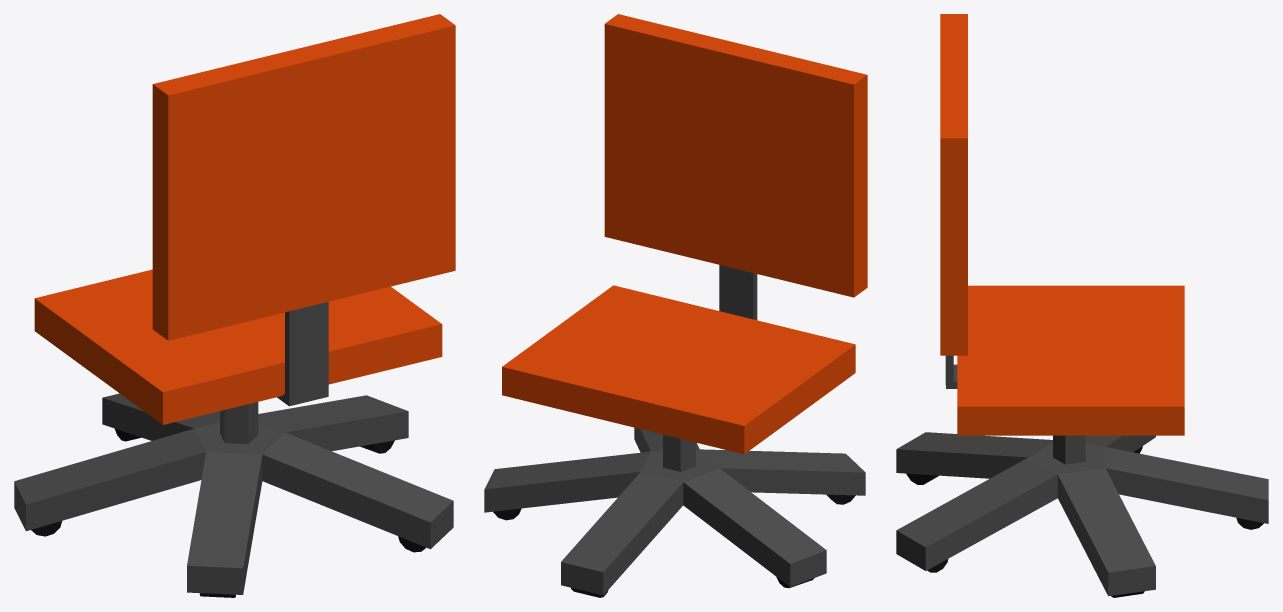
The model's file is office-chair.fbx.
The picture shows the model from 3 angles, left to right: view 1: azimuth 30°, elevation 25°; view 2: azimuth 150°, elevation 25°; view 3: azimuth 270°, elevation 25°; orthographic projection. The views are drawn at different scales.
Visible parts, largest first — view 1: pad2, legs, pad1, support; view 2: pad2, pad1, legs, support; view 3: pad1, legs, pad2.
Boxes of the visible parts, x1,y1,x2,y2 form: pad2: (152, 14, 455, 340); legs: (14, 393, 453, 594); pad1: (34, 269, 442, 424); support: (277, 302, 328, 406); pad2: (604, 14, 867, 297); pad1: (502, 285, 855, 454); legs: (484, 427, 865, 595); support: (719, 265, 757, 320); pad1: (957, 285, 1184, 435); legs: (896, 432, 1268, 596); pad2: (940, 14, 967, 355).
Bounding box in the file's own units: 480 × 605 × 456.
